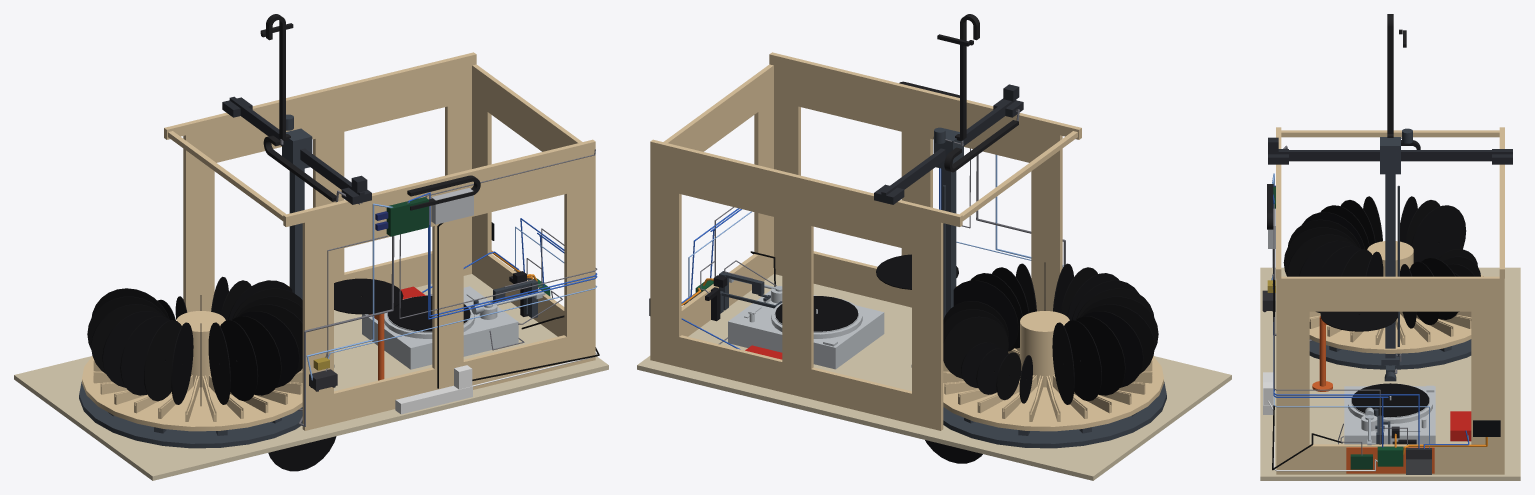
The model's file is parts.glb.
The picture shows the model from 3 angles, left to right: view 1: azimuth 30°, elevation 25°; view 2: azimuth 150°, elevation 25°; view 3: azimuth 270°, elevation 25°; orthographic projection. The views are drawn at different scales.
Parts seen in each view (by area): view 1: frame, bench, carousel_disc, plinth, carousel_base, x_carriage, record_slot18, record_slot14, record_slot13, record_slot19, record_ring_12, record_slot20 (+24 smaller); view 2: frame, bench, carousel_disc, plinth, carousel_base, x_carriage, record_slot3, record_slot10, record_slot11, z_carriage, record_slot12, record_slot9 (+15 smaller); view 3: frame, bench, carousel_disc, x_carriage, plinth, carousel_base, record_slot9, z_carriage, record_platter_12, record_ring_12, z_chain, y_carriage (+36 smaller).
Boxes of the visible parts, x1=… form: frame: x1=164, y1=52, x2=595, y2=430; bench: x1=14, y1=274, x2=608, y2=480; carousel_disc: x1=82, y1=311, x2=302, y2=431; plinth: x1=362, y1=286, x2=518, y2=369; carousel_base: x1=79, y1=382, x2=302, y2=448; x_carriage: x1=222, y1=96, x2=371, y2=204; record_slot18: x1=220, y1=320, x2=258, y2=401; record_slot14: x1=144, y1=320, x2=181, y2=401; record_slot13: x1=120, y1=316, x2=170, y2=395; record_slot19: x1=232, y1=316, x2=281, y2=395; record_ring_12: x1=334, y1=278, x2=403, y2=314; record_slot20: x1=238, y1=311, x2=299, y2=387; frame: x1=650, y1=52, x2=1081, y2=430; bench: x1=637, y1=274, x2=1231, y2=480; carousel_disc: x1=943, y1=311, x2=1163, y2=431; plinth: x1=728, y1=286, x2=884, y2=369; carousel_base: x1=943, y1=382, x2=1166, y2=448; x_carriage: x1=874, y1=84, x2=1023, y2=204; record_slot3: x1=943, y1=316, x2=1008, y2=378; record_slot10: x1=1064, y1=320, x2=1101, y2=401; record_slot11: x1=1075, y1=316, x2=1125, y2=395; z_carriage: x1=911, y1=182, x2=956, y2=367; record_slot12: x1=1082, y1=311, x2=1143, y2=387; record_slot9: x1=1052, y1=322, x2=1074, y2=404; frame: x1=1276, y1=127, x2=1504, y2=474; bench: x1=1260, y1=267, x2=1520, y2=480; carousel_disc: x1=1309, y1=241, x2=1483, y2=353; x_carriage: x1=1268, y1=137, x2=1512, y2=164; plinth: x1=1344, y1=384, x2=1435, y2=444; carousel_base: x1=1309, y1=339, x2=1471, y2=369; record_slot9: x1=1411, y1=205, x2=1466, y2=262; z_carriage: x1=1381, y1=185, x2=1399, y2=381; record_platter_12: x1=1351, y1=383, x2=1429, y2=416; record_ring_12: x1=1320, y1=311, x2=1397, y2=331; z_chain: x1=1387, y1=14, x2=1406, y2=137; y_carriage: x1=1380, y1=128, x2=1412, y2=174.
Size of the model in its own units: 1917 by 1815 by 1000.
